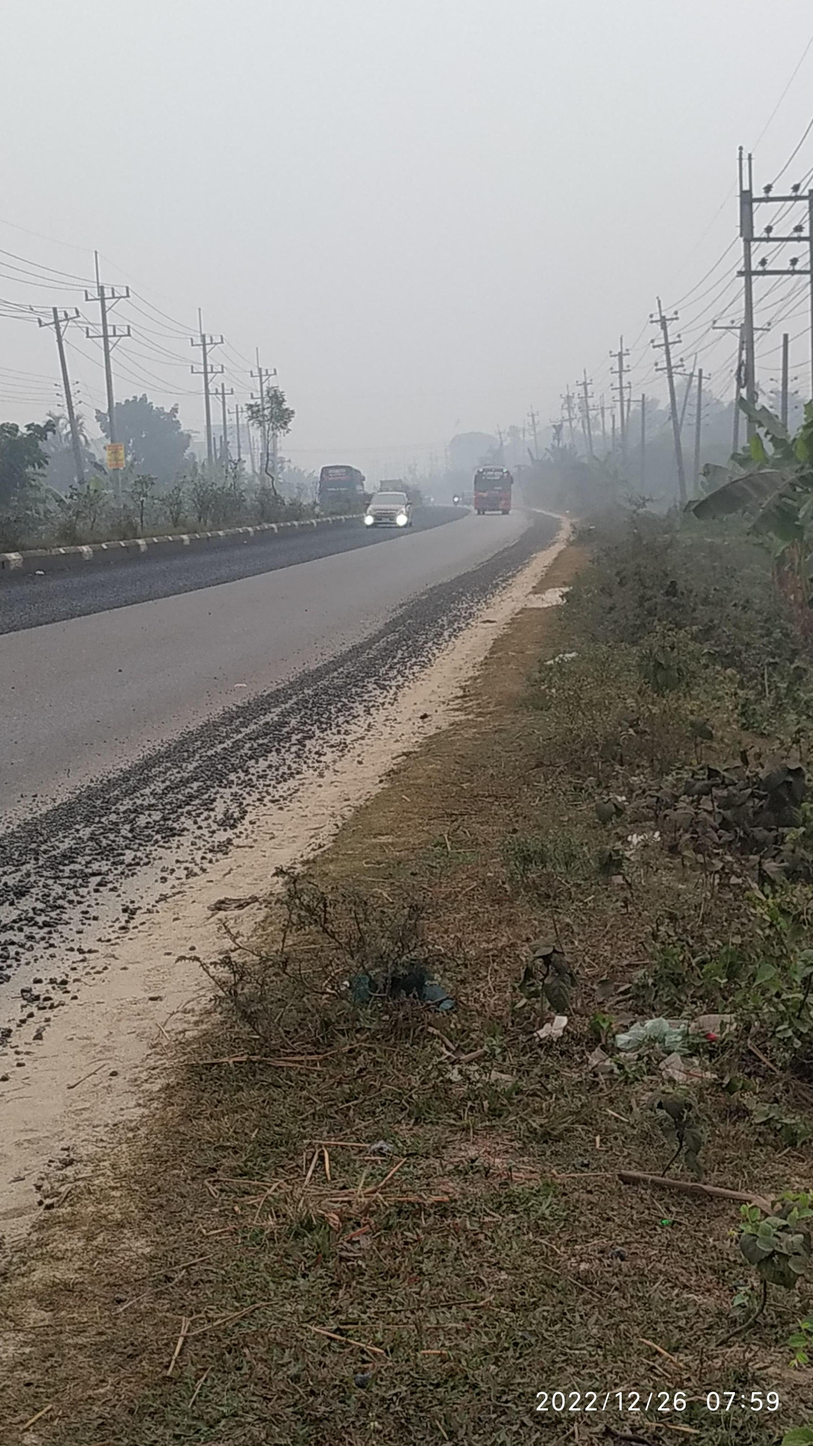Bus: (310, 443, 376, 533), (461, 455, 528, 538)
Car: (355, 485, 436, 554)
